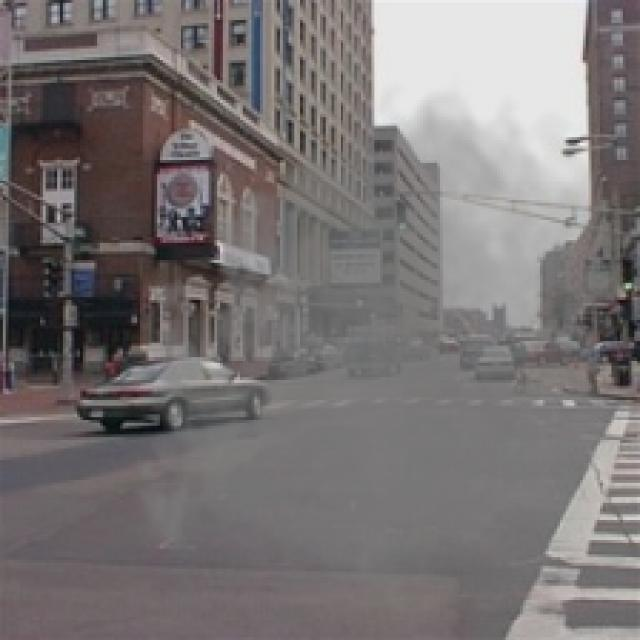Smoke: (120, 69, 637, 612)
